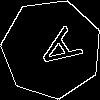A: (26, 24, 84, 79)
